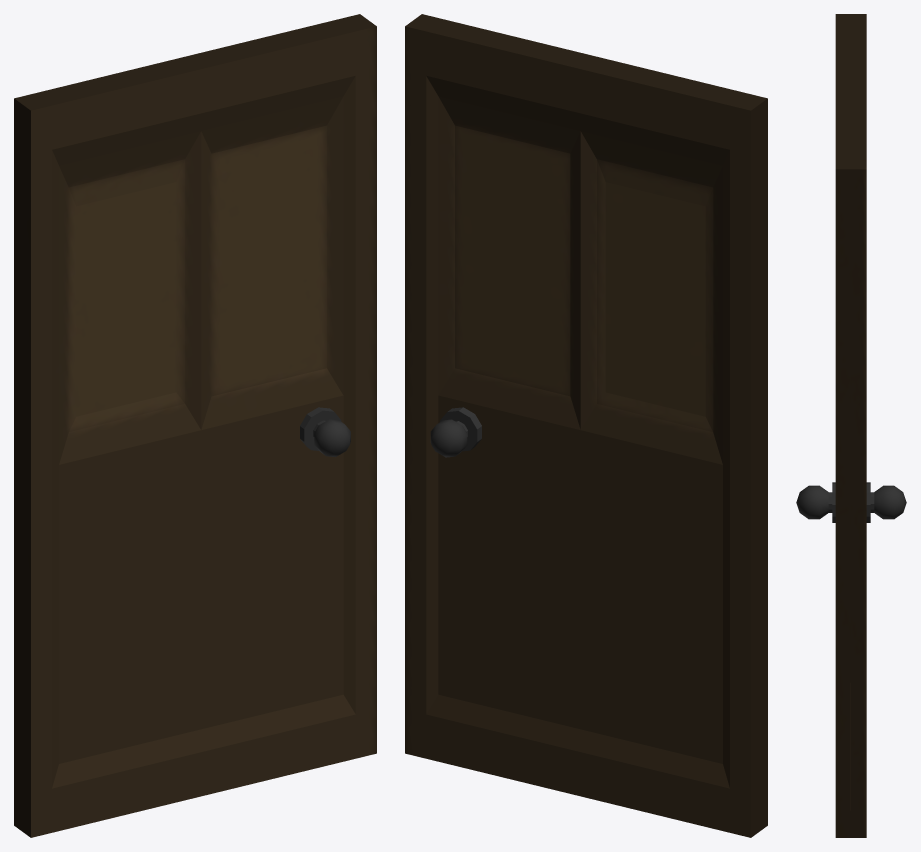
The model's file is Puerta.fbx.
The picture shows the model from 3 angles, left to right: view 1: azimuth 30°, elevation 25°; view 2: azimuth 150°, elevation 25°; view 3: azimuth 270°, elevation 25°; orthographic projection. The views are drawn at different scales.
Parts seen in each view (by area): view 1: Door; view 2: Door; view 3: Door.
Part boxes in pixels (<box>): Door: <box>14,14,376,837</box>; Door: <box>405,14,767,837</box>; Door: <box>796,14,906,837</box>.
Bounding box in the file's own units: 60.51 × 122 × 18.19.
